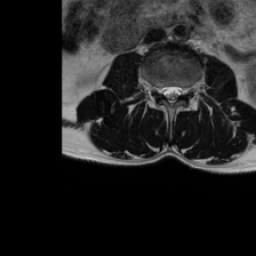CCS_normal: (168, 79, 175, 109)
LFS_normal: (182, 78, 190, 101)
LLS_normal: (175, 78, 182, 104)
RFS_normal: (154, 79, 161, 100)
RLS_normal: (161, 79, 168, 104)
